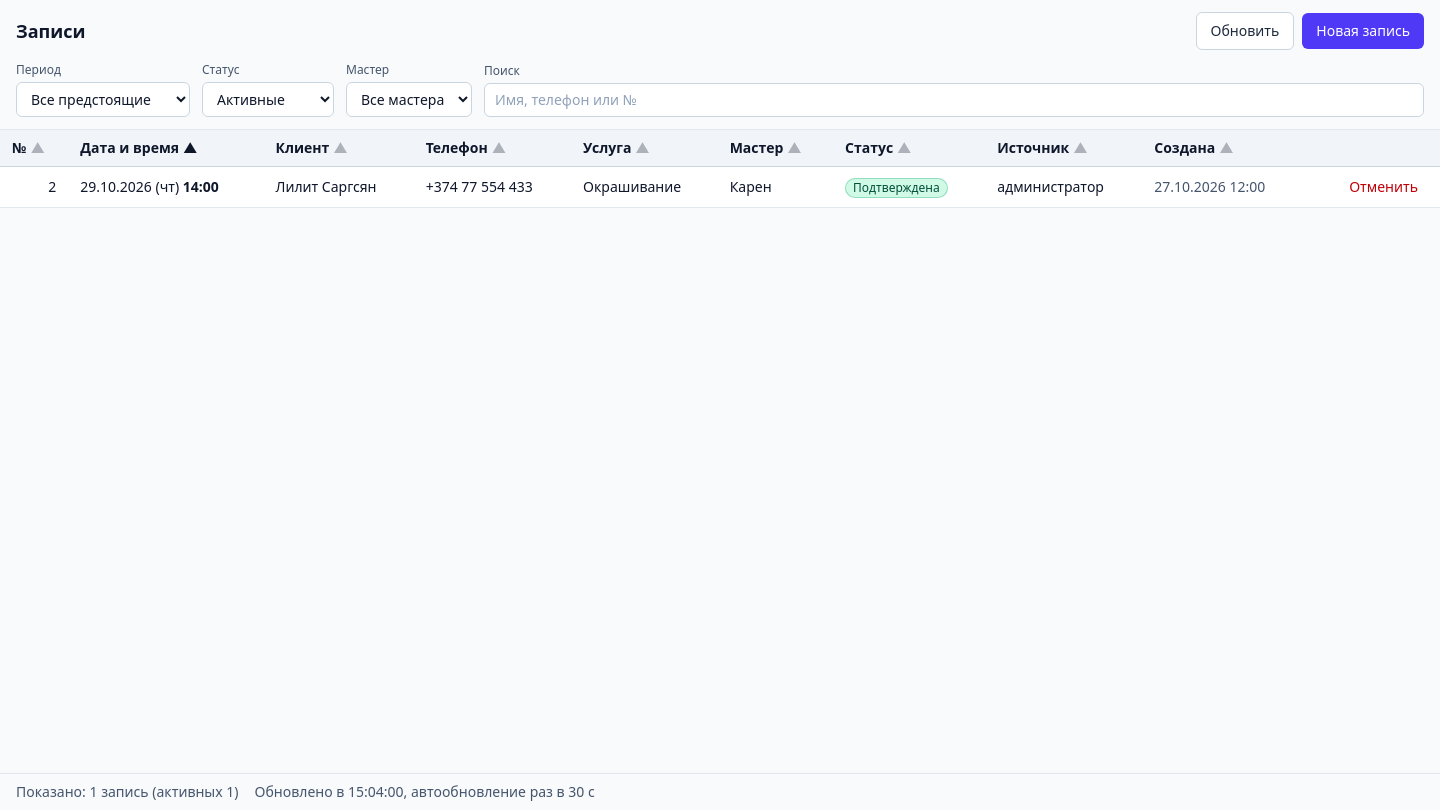
BookingsTab › телефон отформатирован, у старых записей без даты создания — «—»
Expected: the text "Лилит Саргсян" is shown, [264,167,414,208]
Expected: the text "+374 77 554 433" is shown, [414,167,571,208]
Select "Все" in the dropdown labelled "Период" at (103, 100), box [16,82,190,117]
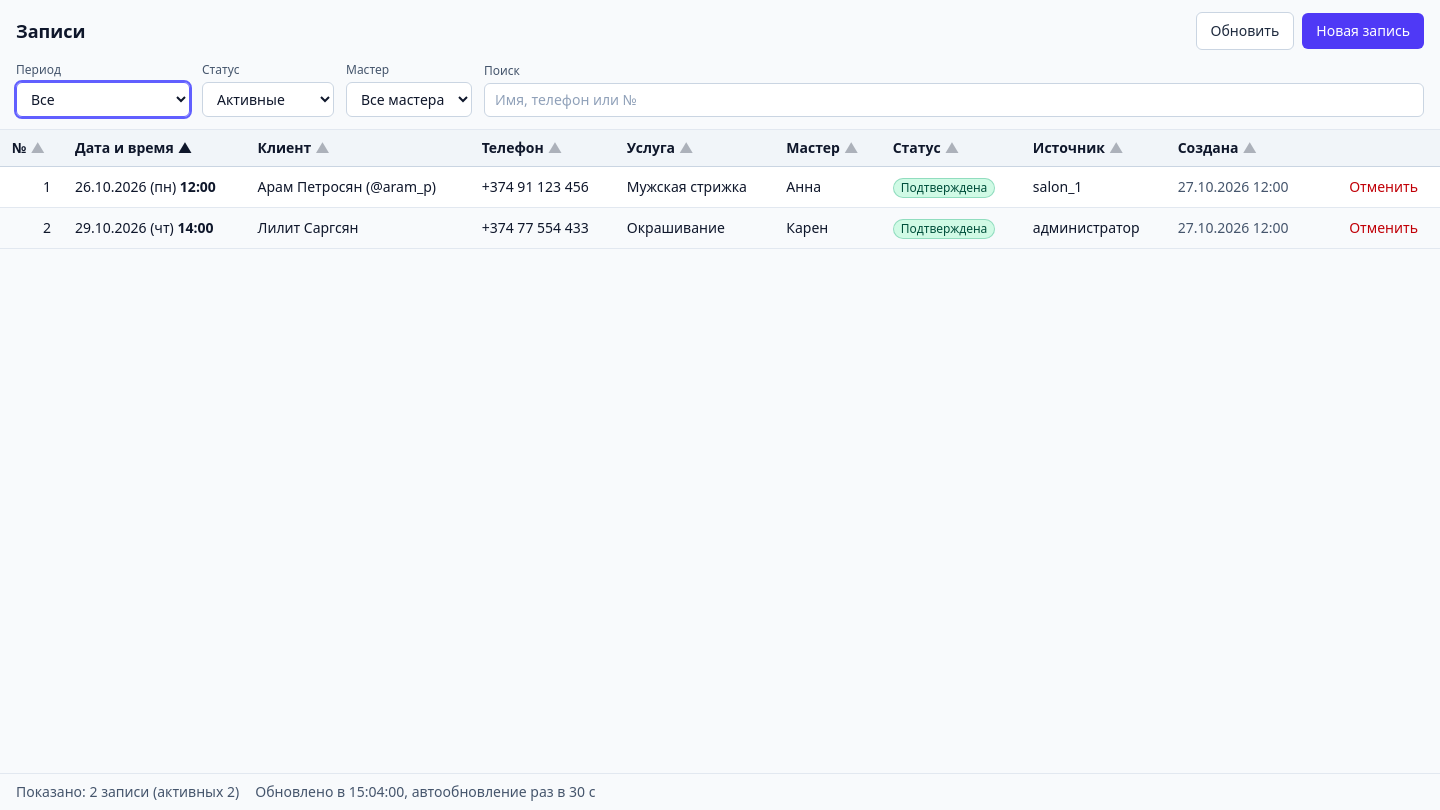
Select "Все статусы" in the dropdown labelled "Статус" at (268, 100), box [202,82,334,117]
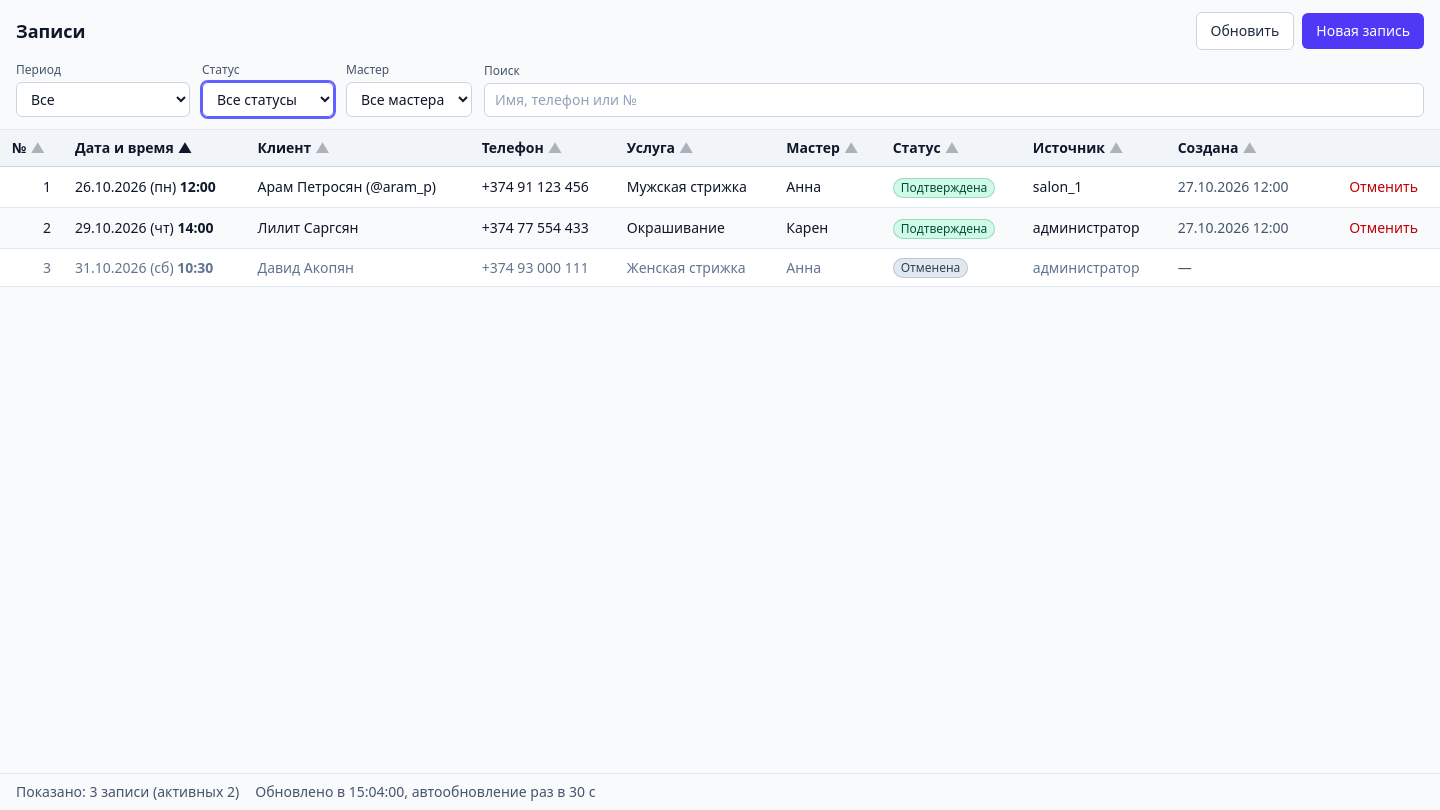
Expected: the row that starts with "31.10.2026 (сб)" is shown, [0,249,1439,287]
Expected: the cell "—" is shown, [1166,249,1315,287]
